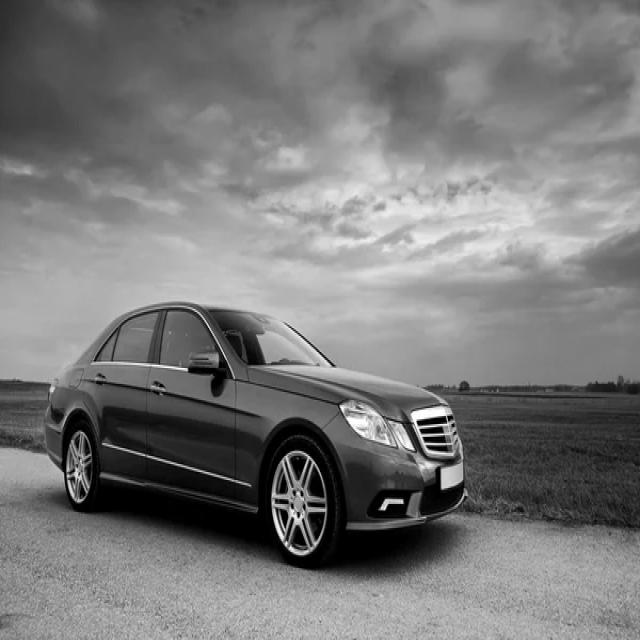Car: (44, 301, 467, 567)
